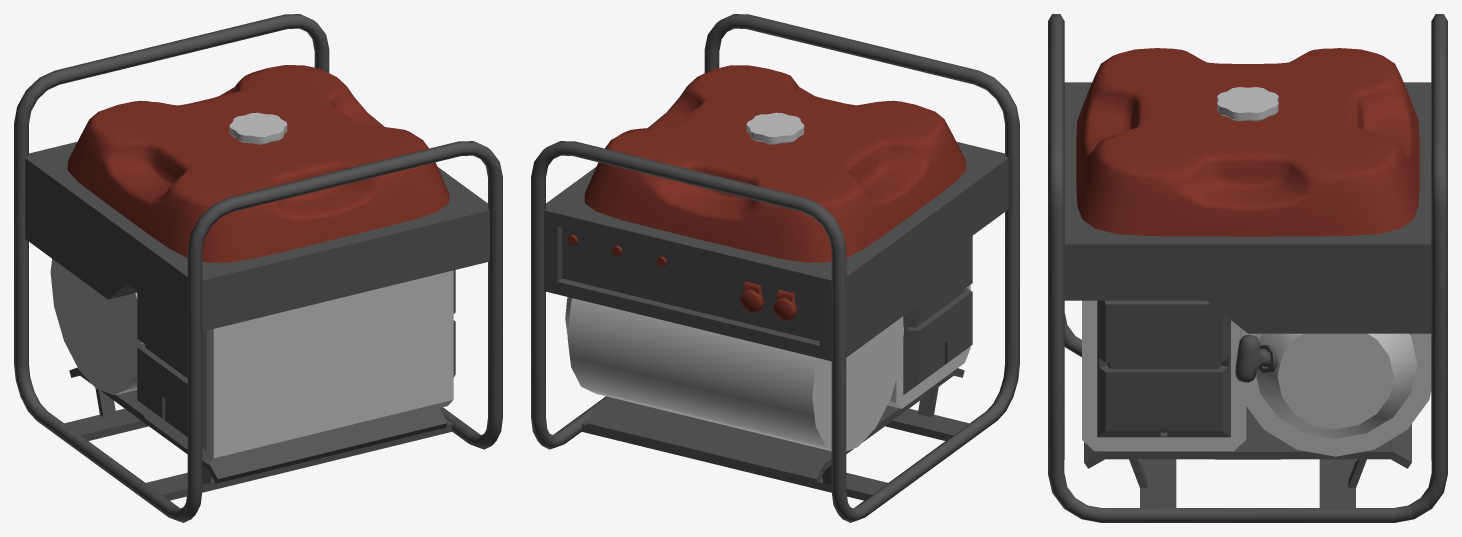
The model's file is generator.fbx.
The picture shows the model from 3 angles, left to right: view 1: azimuth 30°, elevation 25°; view 2: azimuth 150°, elevation 25°; view 3: azimuth 270°, elevation 25°; orthographic projection. The views are drawn at different scales.
Parts seen in each view (by area): view 1: Cube.005, Cube.006, Cube.004, Cube.002, Cylinder.007, Cube.007, Cube.003, Cylinder.006; view 2: Cube.005, Cube.004, Cylinder.007, Cube.002, Cube.007, Cube.006, Cube.003, Cylinder.006, Cylinder.009; view 3: Cube.005, Cube.004, Cube.006, Cube.002, Cylinder.007, Cube.007, Cube.003, Cylinder.006, Cube.009, Cube.008.
Part boxes in pixels (<box>): Cube.005: <box>67,65,449,262</box>; Cube.006: <box>137,270,455,464</box>; Cube.004: <box>25,141,489,331</box>; Cube.002: <box>14,14,502,522</box>; Cylinder.007: <box>50,259,143,395</box>; Cube.007: <box>69,367,447,483</box>; Cube.003: <box>64,408,452,500</box>; Cylinder.006: <box>229,112,287,144</box>; Cube.005: <box>584,65,966,262</box>; Cube.004: <box>544,141,1008,361</box>; Cylinder.007: <box>565,297,903,451</box>; Cube.002: <box>531,14,1019,522</box>; Cube.007: <box>586,368,964,483</box>; Cube.006: <box>887,236,972,408</box>; Cube.003: <box>581,408,969,500</box>; Cylinder.006: <box>746,112,804,144</box>; Cylinder.009: <box>740,281,797,320</box>; Cube.005: <box>1076,48,1419,236</box>; Cube.004: <box>1064,82,1431,333</box>; Cube.006: <box>1082,300,1246,451</box>; Cube.002: <box>1048,14,1447,522</box>; Cylinder.007: <box>1234,329,1431,456</box>; Cube.007: <box>1084,406,1411,468</box>; Cube.003: <box>1140,459,1355,507</box>; Cylinder.006: <box>1217,87,1278,121</box>; Cube.009: <box>1235,335,1270,382</box>; Cube.008: <box>1129,459,1366,487</box>.
Size of the model in its own units: 207 by 208 by 209.
